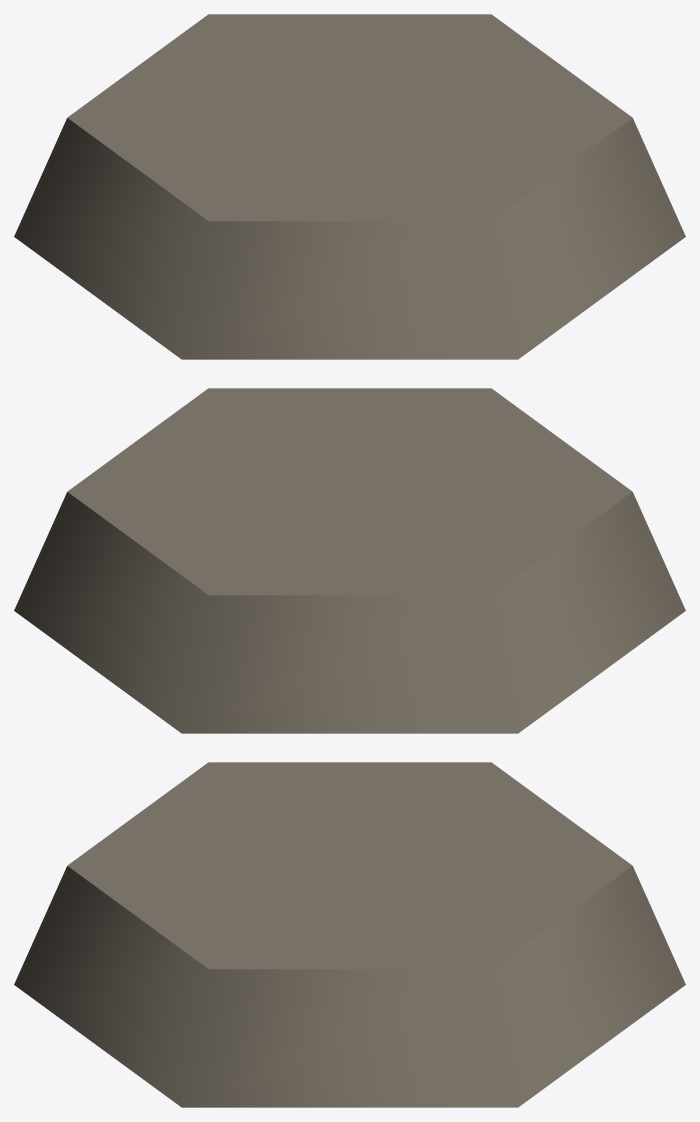
File: AnteneHolder_1_C.glb
The picture shows the model from 3 angles, top to bottom: view 1: azimuth 30°, elevation 25°; view 2: azimuth 150°, elevation 25°; view 3: azimuth 270°, elevation 25°; orthographic projection.
Visible parts, largest first — view 1: AnteneHolder_1_C; view 2: AnteneHolder_1_C; view 3: AnteneHolder_1_C.
Boxes of the visible parts, x1,y1,x2,y2 form: AnteneHolder_1_C: (14,14,685,359); AnteneHolder_1_C: (14,388,685,733); AnteneHolder_1_C: (14,762,685,1107).
Size of the model in its own units: 0.2947 by 0.0666 by 0.3403.
Materials: 1 (1 with a texture image).
